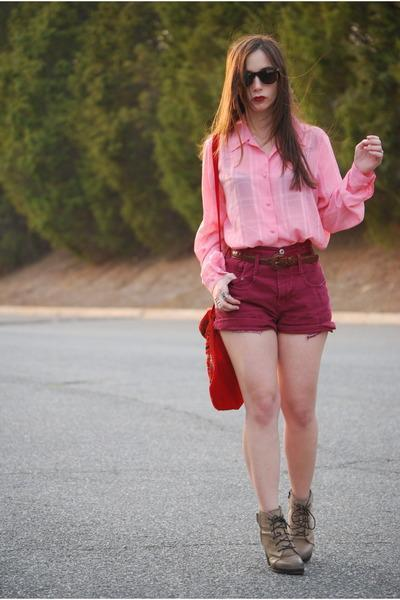bag: (199, 156, 243, 410)
shirt: (194, 115, 376, 298)
shoe: (256, 500, 314, 576)
skirt: (213, 234, 335, 338)
sunglass: (255, 56, 286, 83)
